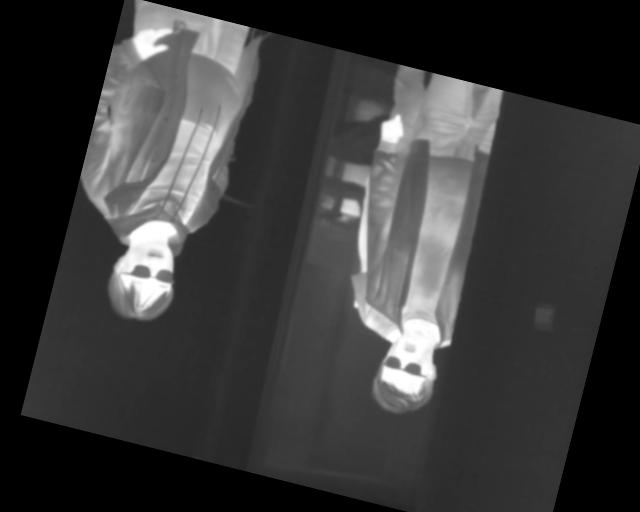face: (99, 229, 185, 330), (370, 323, 447, 418)
